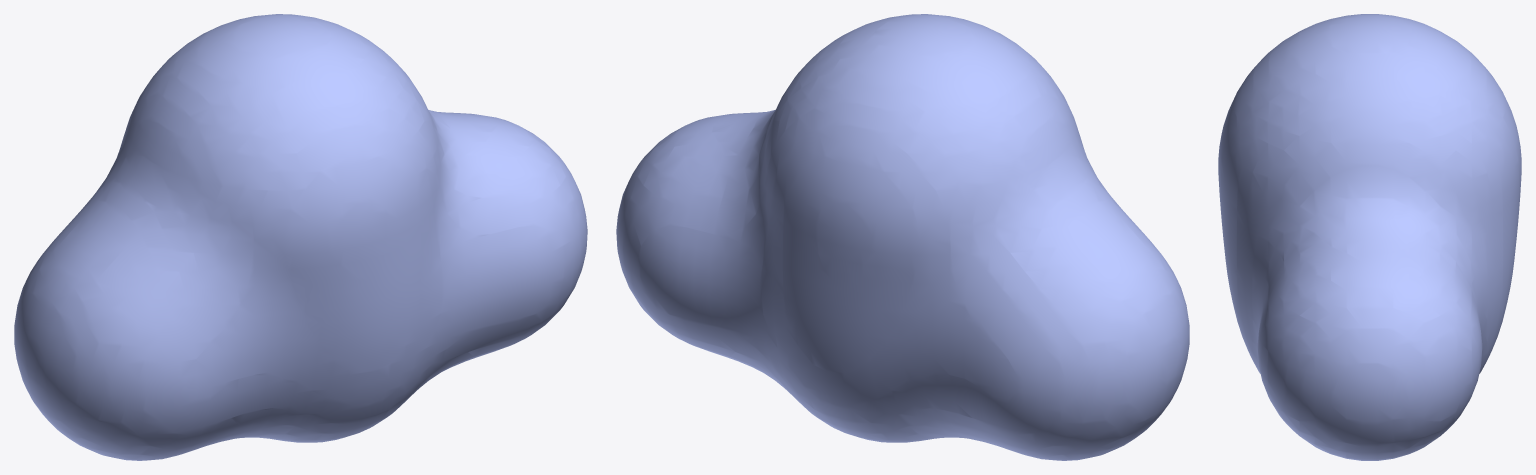
The model's file is Cloud.glb.
3 renders of one model, left to right at view 1: azimuth 30°, elevation 25°; view 2: azimuth 150°, elevation 25°; view 3: azimuth 270°, elevation 25°, orthographic. The views are drawn at different scales.
Visible parts, largest first — view 1: Mball.004; view 2: Mball.004; view 3: Mball.004.
Boxes of the visible parts, x1=… form: Mball.004: x1=14, y1=14, x2=587, y2=460; Mball.004: x1=616, y1=14, x2=1189, y2=460; Mball.004: x1=1218, y1=14, x2=1521, y2=460.
Bounding box in the file's own units: 5.75 × 4.14 × 2.98.
